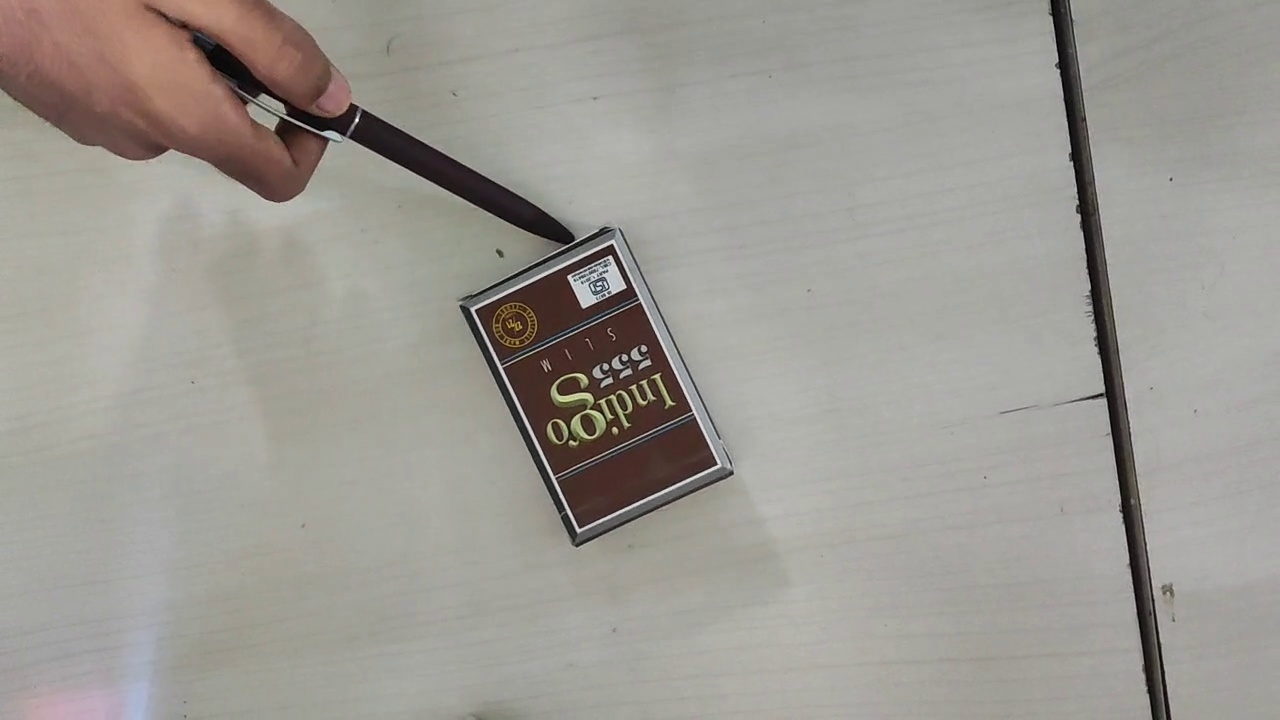BEX: (474, 242, 723, 530)
